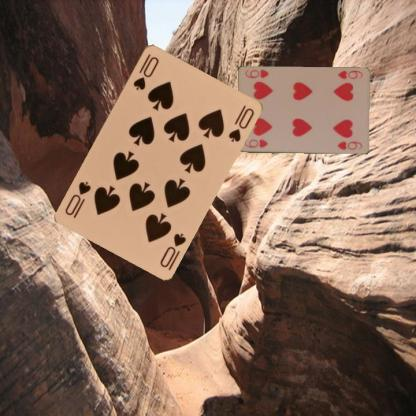10s: (130, 51, 160, 91), (157, 230, 187, 269)
6h: (335, 68, 364, 80), (242, 137, 269, 149)
